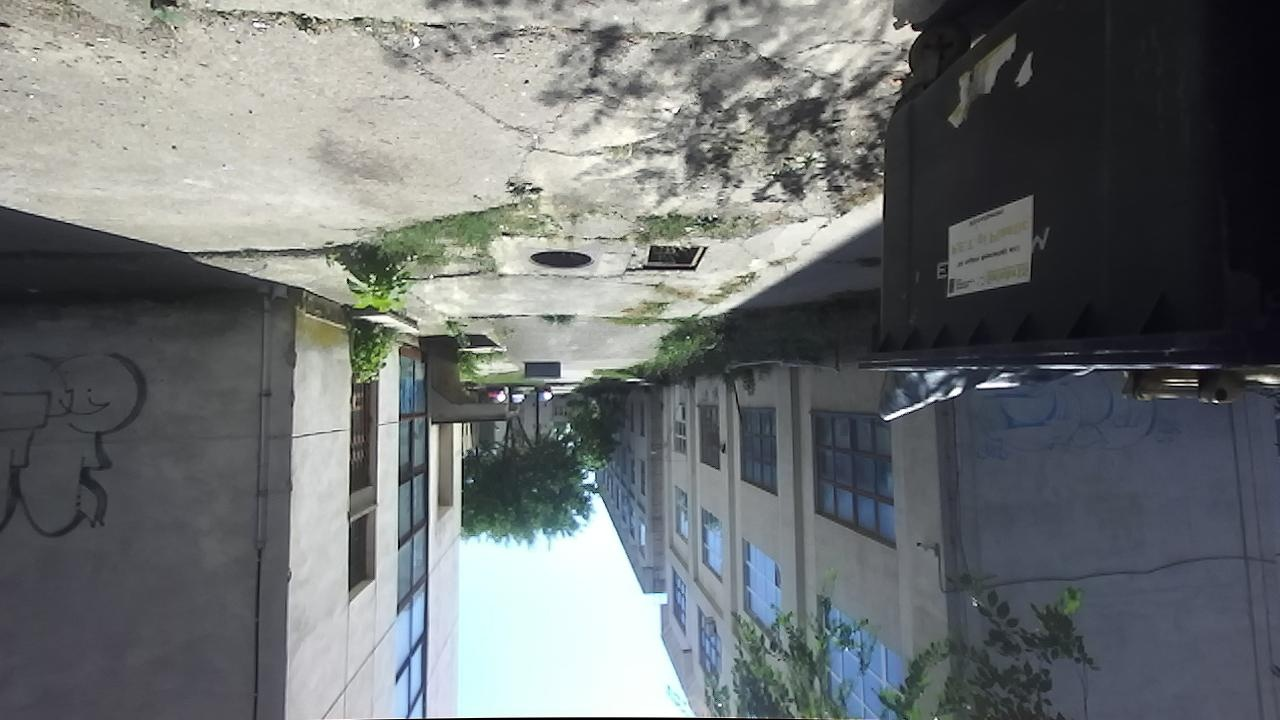drain: (642, 240, 714, 273), (525, 248, 600, 276)
